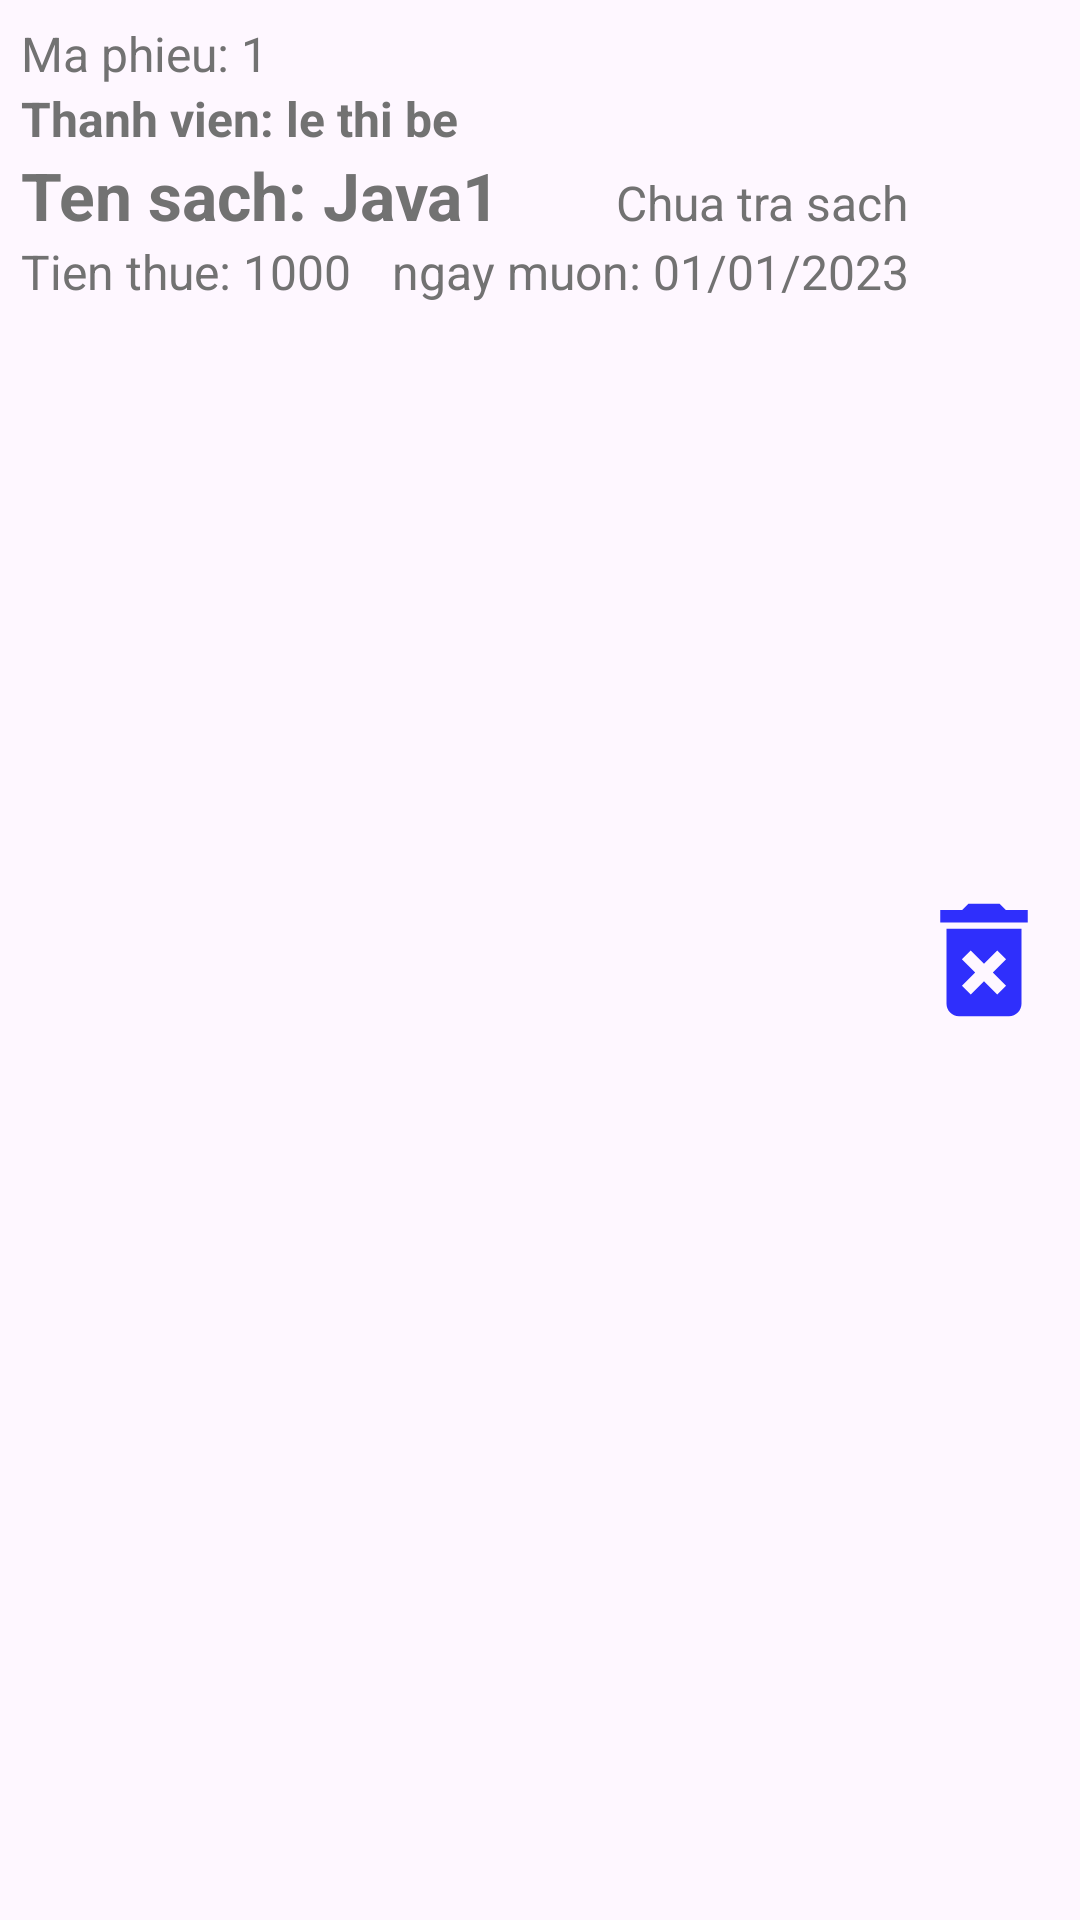

Icon bounding boxes for this 1080w x 1920h phone screenshot, format (x1, y1, x2, y2):
delete forever: (940, 903, 1028, 1017)
